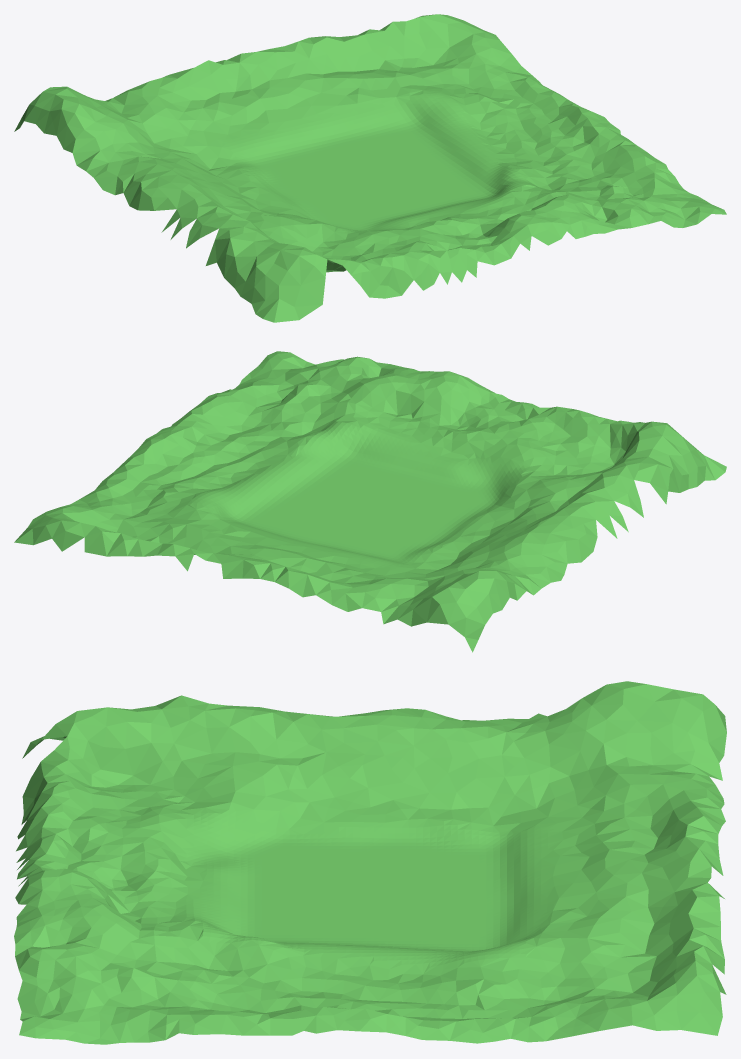
Rendered from terrain.obj.
The picture shows the model from 3 angles, top to bottom: view 1: azimuth 30°, elevation 25°; view 2: azimuth 150°, elevation 25°; view 3: azimuth 270°, elevation 25°; orthographic projection. The views are drawn at different scales.
Parts seen in each view (by area): view 1: Plane_Plane.001; view 2: Plane_Plane.001; view 3: Plane_Plane.001.
Part boxes in pixels (bbox=[...]): Plane_Plane.001: bbox=[14, 14, 726, 322]; Plane_Plane.001: bbox=[14, 351, 726, 652]; Plane_Plane.001: bbox=[14, 681, 726, 1044].
Size of the model in its own units: 303 by 35.15 by 302.
